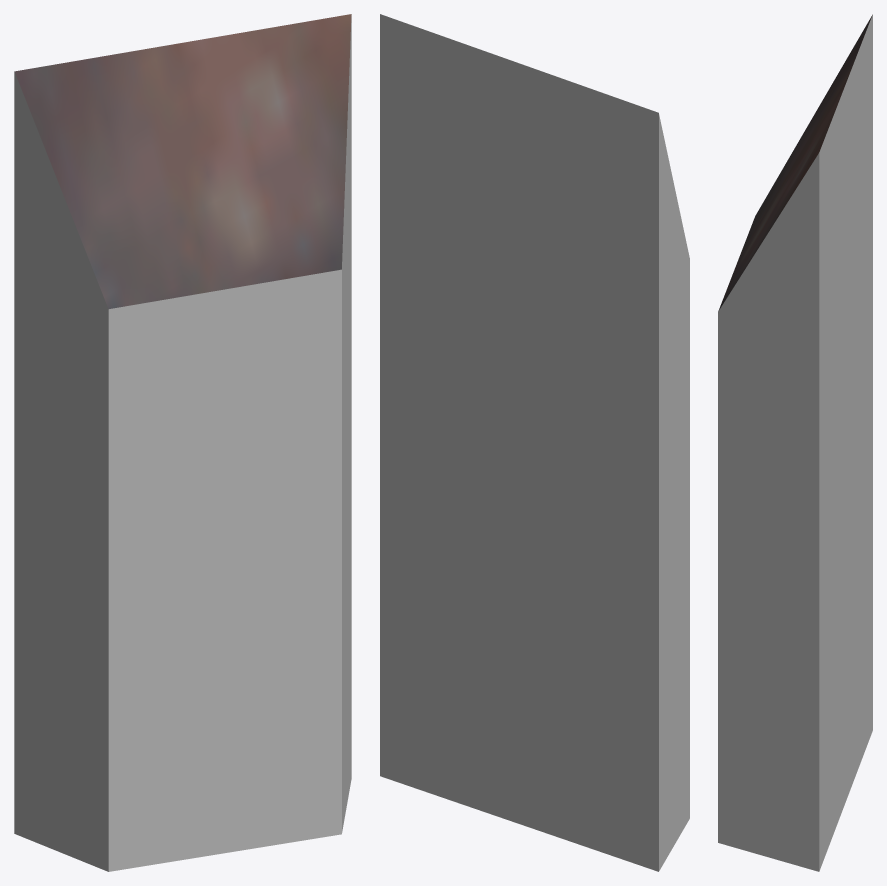
The model's file is DEBW_0010007THXO.gltf.
The picture shows the model from 3 angles, left to right: view 1: azimuth 30°, elevation 25°; view 2: azimuth 150°, elevation 25°; view 3: azimuth 270°, elevation 25°; orthographic projection. The views are drawn at different scales.
Parts seen in each view (by area): view 1: Z_UP; view 2: Z_UP; view 3: Z_UP.
Boxes of the visible parts, x1,y1,x2,y2 form: Z_UP: (14, 14, 351, 871); Z_UP: (380, 14, 689, 871); Z_UP: (718, 14, 872, 871).
Bounding box in the file's own units: 5.49 × 13.02 × 2.54.
2 materials, 1 textured.
